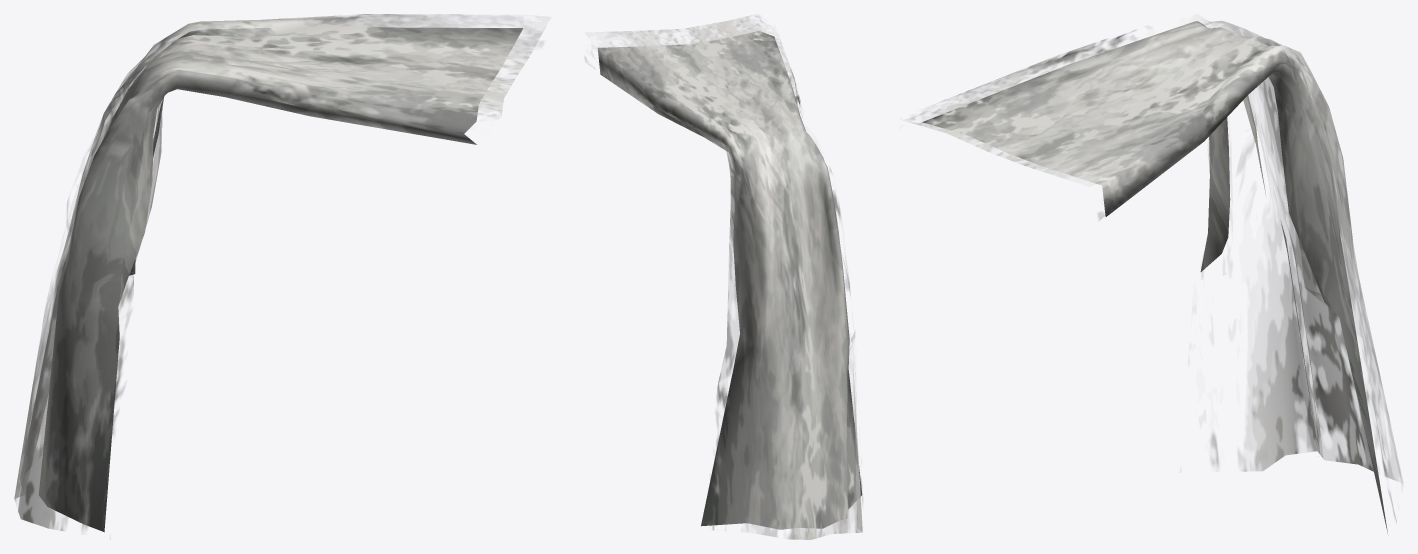
The picture shows the model from 3 angles, left to right: view 1: azimuth 30°, elevation 25°; view 2: azimuth 150°, elevation 25°; view 3: azimuth 270°, elevation 25°; orthographic projection. The views are drawn at different scales.
Visible parts, largest first — view 1: body0_model0_lod0_mesh1, body0_model0_lod0_mesh0; view 2: body0_model0_lod0_mesh1, body0_model0_lod0_mesh0; view 3: body0_model0_lod0_mesh0, body0_model0_lod0_mesh1.
Part boxes in pixels (<box>): body0_model0_lod0_mesh1: <box>39,27,522,532</box>; body0_model0_lod0_mesh0: <box>14,14,544,530</box>; body0_model0_lod0_mesh1: <box>597,31,862,529</box>; body0_model0_lod0_mesh0: <box>585,15,862,539</box>; body0_model0_lod0_mesh0: <box>904,19,1402,522</box>; body0_model0_lod0_mesh1: <box>922,21,1387,533</box>.
Size of the model in its own units: 815 by 821 by 734.
2 materials, 2 textured.
